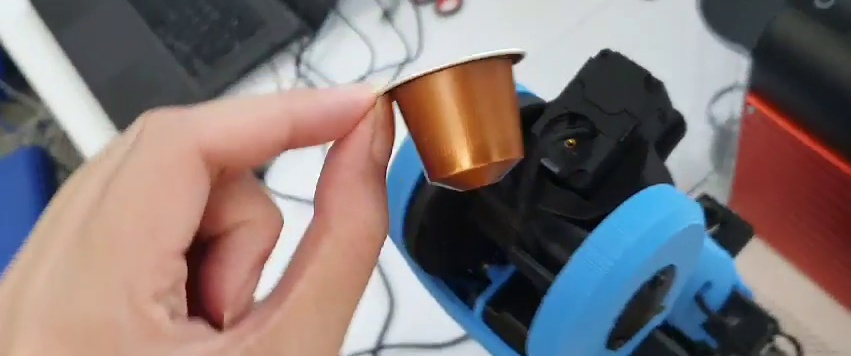capsule_3: (377, 45, 529, 192)
